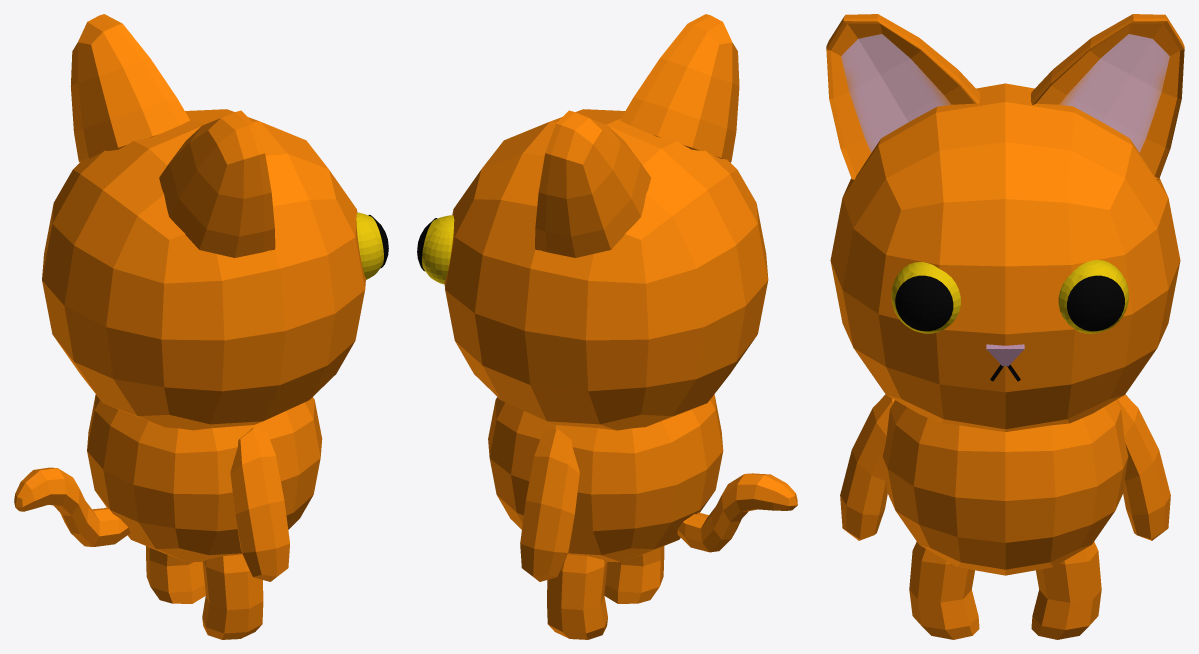
The model's file is cat 30.11.2023.fbx.
3 renders of one model, left to right at view 1: azimuth 30°, elevation 25°; view 2: azimuth 150°, elevation 25°; view 3: azimuth 270°, elevation 25°, orthographic. The views are drawn at different scales.
Parts seen in each view (by area): view 1: Cube.001, Cube.002, Cube.003, Cube.007, Cube.006, Cube.008, Sphere; view 2: Cube.001, Cube.002, Cube.003, Cube.007, Cube.006, Cube.008, Sphere; view 3: Cube.001, Cube.003, Cube.002, Cube.007, Cube.006, Sphere.001, Sphere, Cube.004.
Part boxes in pixels (x1,y1,x2,y2): Cube.001: [42, 109, 365, 430]; Cube.002: [70, 14, 275, 257]; Cube.003: [87, 394, 322, 562]; Cube.007: [146, 546, 263, 639]; Cube.006: [230, 428, 289, 581]; Cube.008: [14, 467, 130, 546]; Sphere: [356, 212, 383, 279]; Cube.001: [444, 109, 768, 430]; Cube.002: [535, 14, 739, 257]; Cube.003: [488, 394, 723, 562]; Cube.007: [547, 546, 664, 639]; Cube.006: [520, 428, 579, 581]; Cube.008: [677, 473, 797, 552]; Sphere: [422, 215, 454, 284]; Cube.001: [830, 83, 1180, 431]; Cube.003: [882, 400, 1128, 575]; Cube.002: [826, 14, 1184, 179]; Cube.007: [909, 541, 1101, 639]; Cube.006: [840, 394, 1170, 540]; Sphere.001: [895, 275, 1124, 331]; Sphere: [891, 260, 1128, 333]; Cube.004: [986, 344, 1024, 366].
Size of the model in its own units: 13.89 by 21.95 by 11.88.
